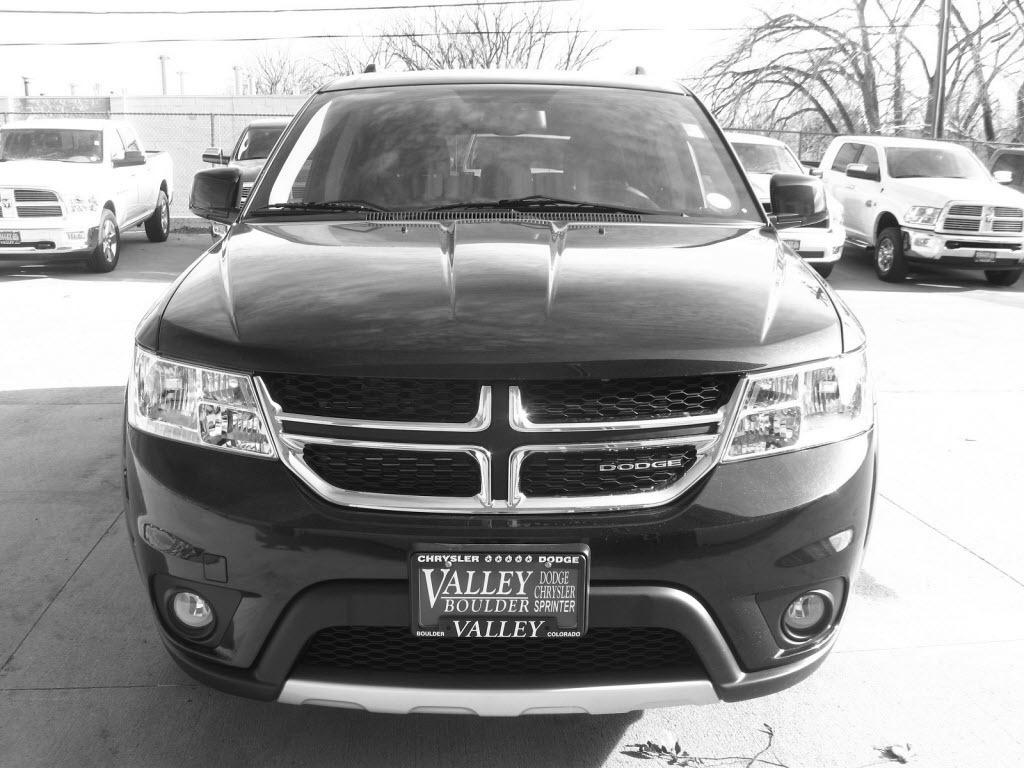car: (124, 72, 876, 704)
